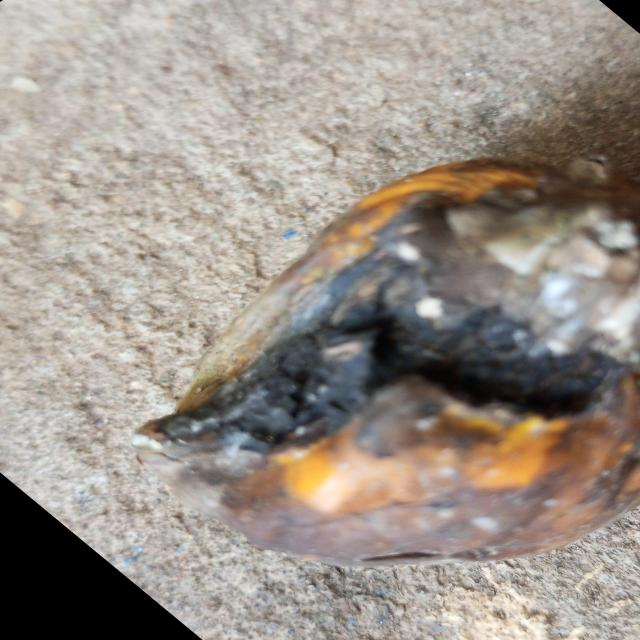damaged: (130, 157, 640, 567)
